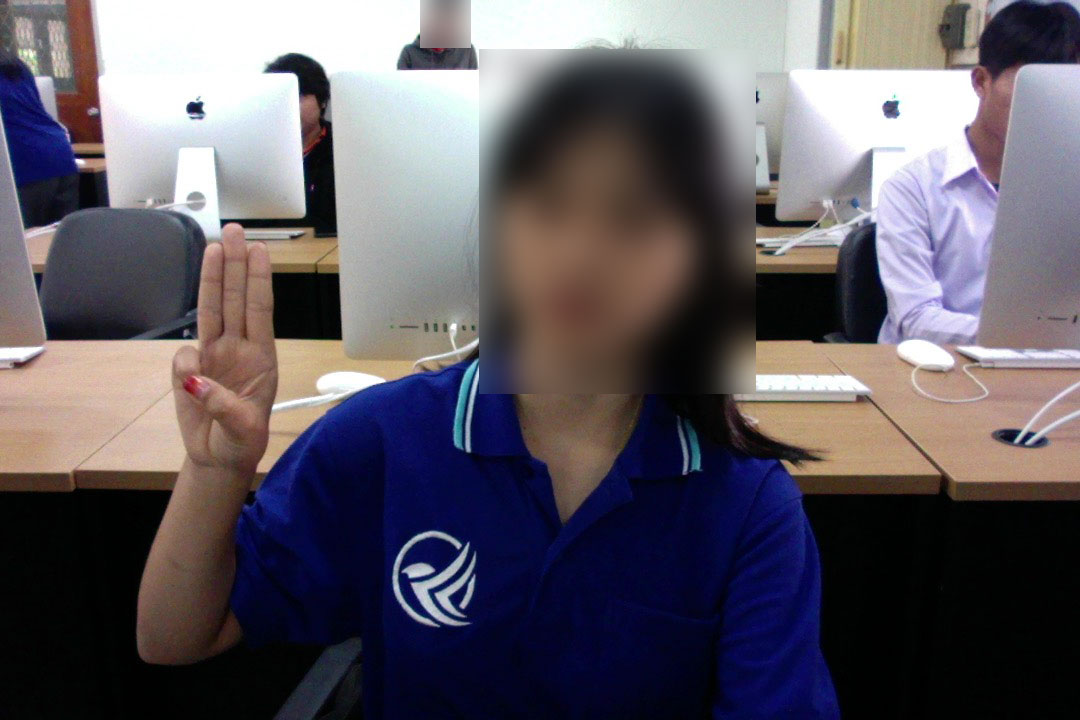wor: (156, 222, 311, 483)
